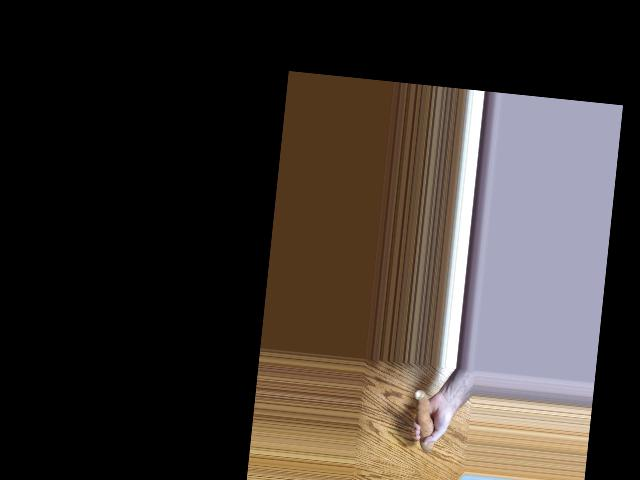sweet_potato: (412, 384, 443, 447)
